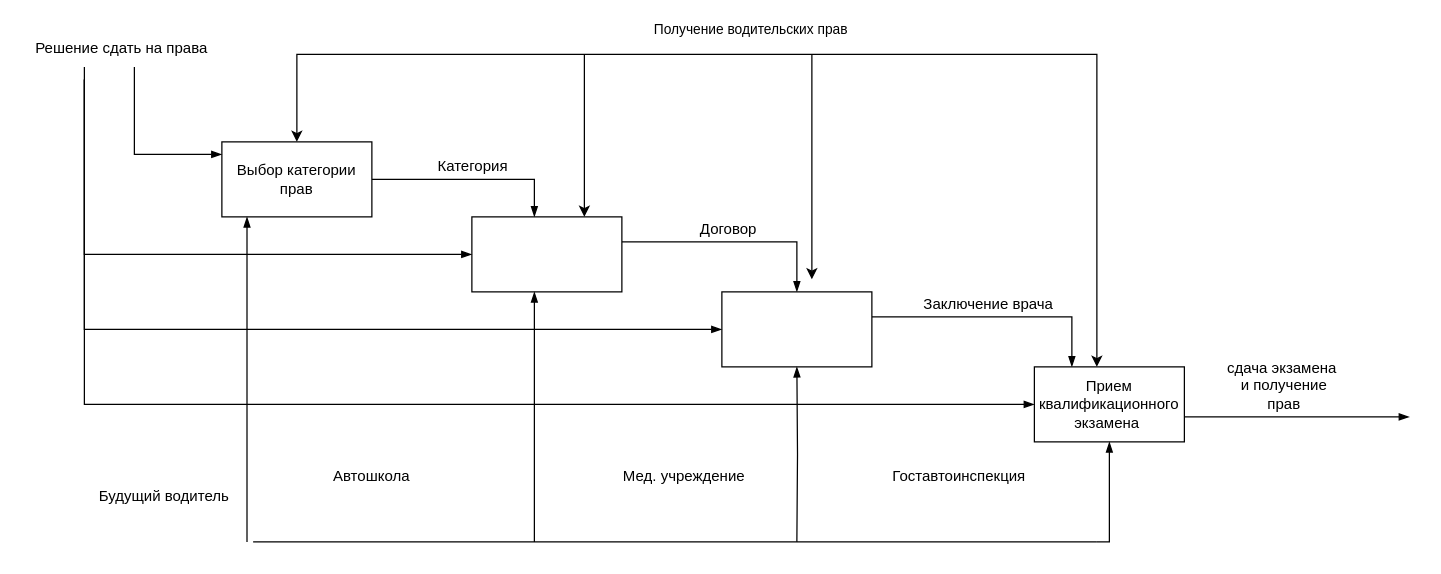
Some shapes in this 1441 by 574 pixel diagram are drawn without their labels. Each missing label, with the centre of its shape:
Заключение договора: the point at 546,254
Проведение медицинской комиссии: the point at 796,329
